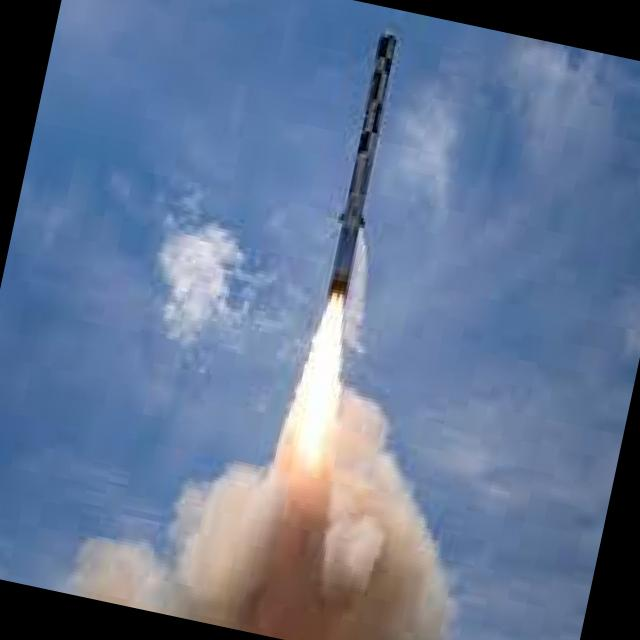rocket: (281, 25, 420, 452)
